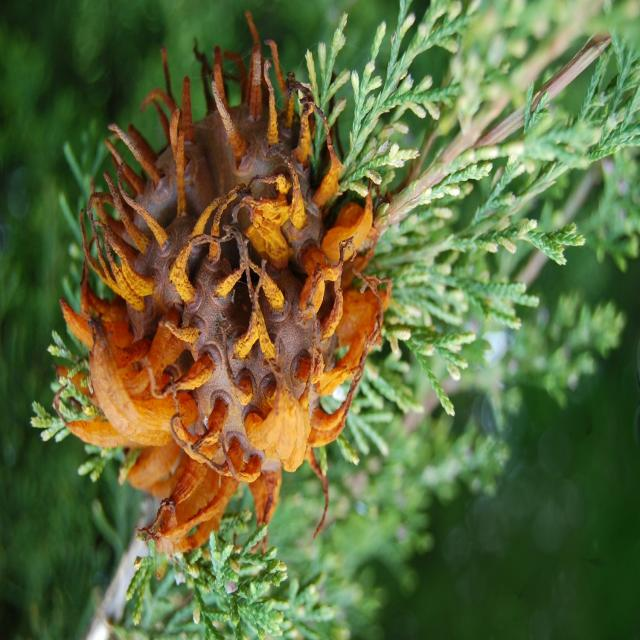Gymnosporangium_Rusts: (51, 10, 394, 564)
